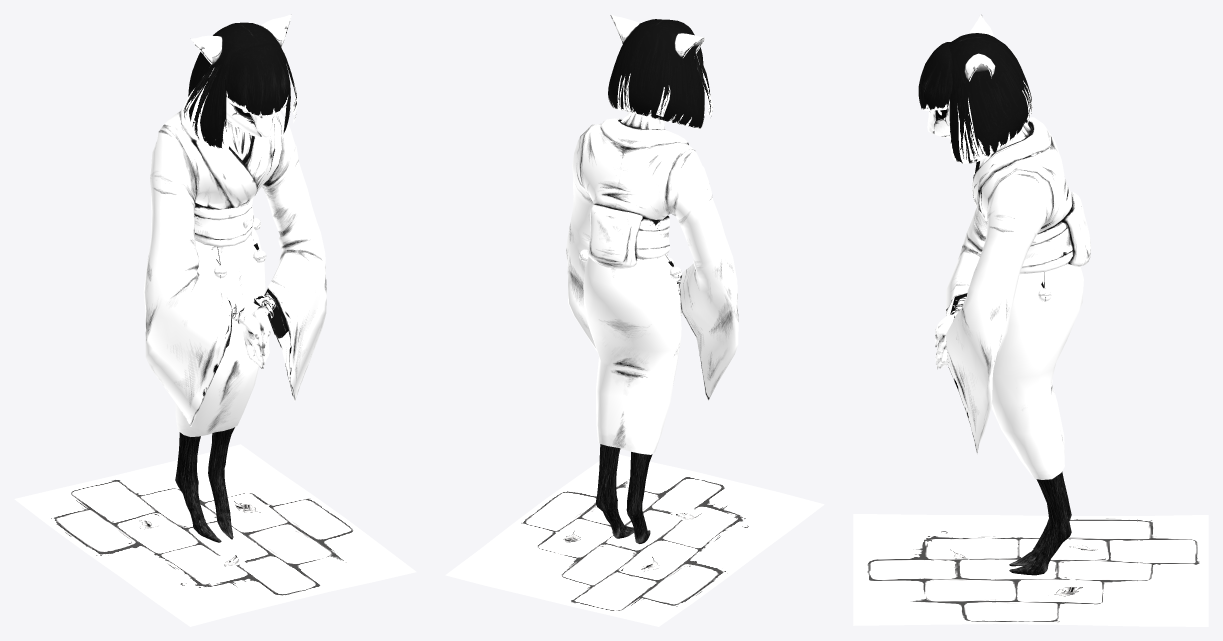
File: mieruko-chan_shrine_ghost.glb
The picture shows the model from 3 angles, left to right: view 1: azimuth 30°, elevation 25°; view 2: azimuth 150°, elevation 25°; view 3: azimuth 270°, elevation 25°; orthographic projection. The views are drawn at different scales.
Visible parts, largest first — view 1: Plane, Kimono_Top, Hair, Falda, Legs, Obi, Manos, Rostro, Ears; view 2: Plane, Kimono_Top, Falda, Hair, Obi, Legs, Ears, Rostro; view 3: Plane, Kimono_Top, Falda, Hair, Obi, Legs, Rostro, Ears, Manos.
Part boxes in pixels (x1,y1,x2,y2): Plane: (14,444,416,626); Kimono_Top: (143,108,326,426); Hair: (183,22,297,149); Falda: (175,226,265,436); Legs: (175,427,234,542); Obi: (194,197,254,246); Manos: (231,292,274,368); Rostro: (226,97,277,160); Ears: (191,14,291,65); Plane: (445,454,824,626); Kimono_Top: (566,118,738,400); Falda: (583,253,681,454); Hair: (608,19,712,129); Obi: (588,204,670,268); Legs: (596,444,652,543); Ears: (610,14,705,58); Rostro: (621,112,664,129); Plane: (853,514,1208,626); Kimono_Top: (946,117,1072,454); Falda: (991,263,1083,479); Hair: (918,33,1032,163); Obi: (1020,192,1090,274); Legs: (1009,471,1071,575); Rostro: (927,100,1031,167); Ears: (964,14,995,82); Manos: (935,296,966,369).
Bounding box in the file's own units: 535 × 1196 × 721.
Materials: 14 (14 with a texture image).
